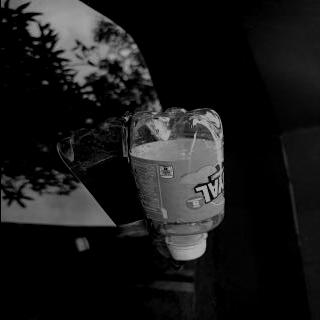bottle: (124, 106, 225, 262)
